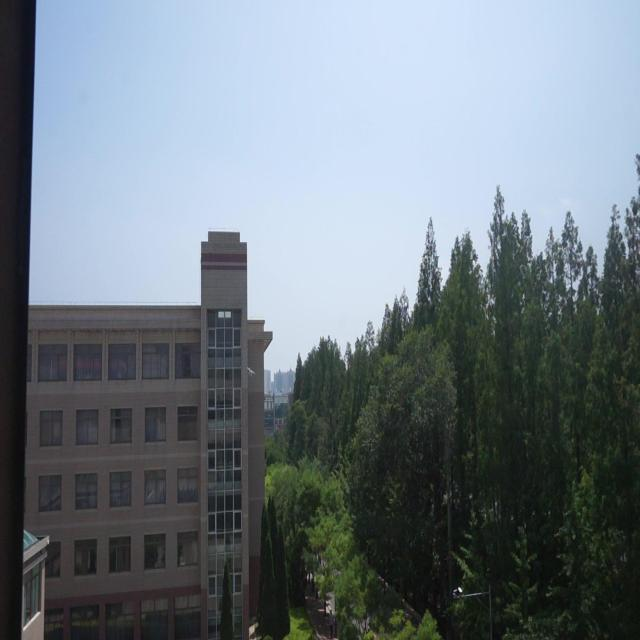drone: (246, 363, 256, 381)
